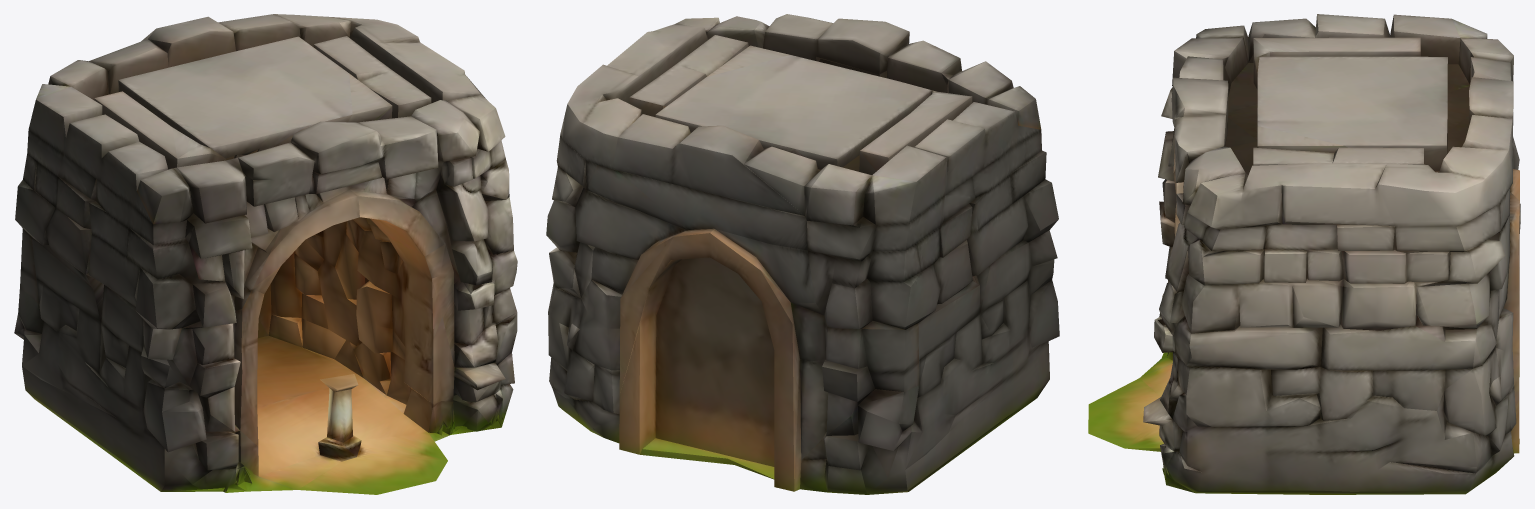
Rendered from m2MineEntranceBg.glb.
3 views of the same model, side by side, from view 1: azimuth 30°, elevation 25°; view 2: azimuth 150°, elevation 25°; view 3: azimuth 270°, elevation 25° (orthographic).
Parts seen in each view (by area): view 1: model; view 2: model; view 3: model.
Part boxes in pixels (x1,y1,x2,y2): model: (14,14,517,494); model: (546,14,1059,494); model: (1088,14,1520,494).
Bounding box in the file's own units: 1.88 × 1.55 × 1.88.
Materials: 1 (1 with a texture image).
